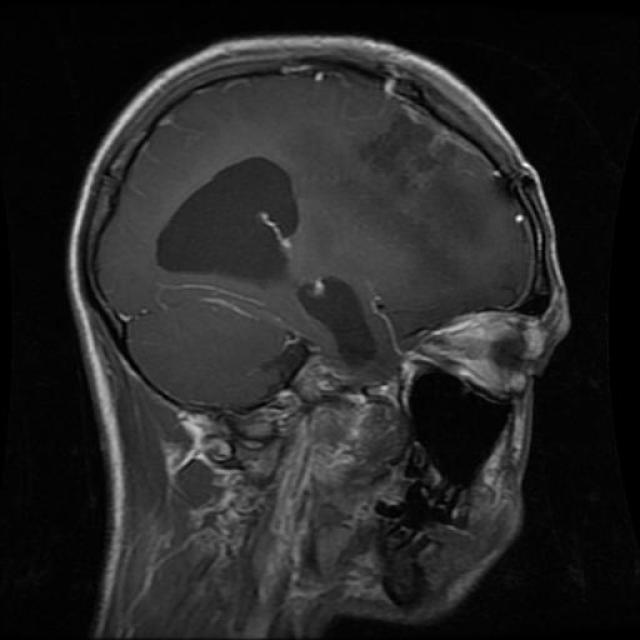glioma: (158, 156, 306, 286)
